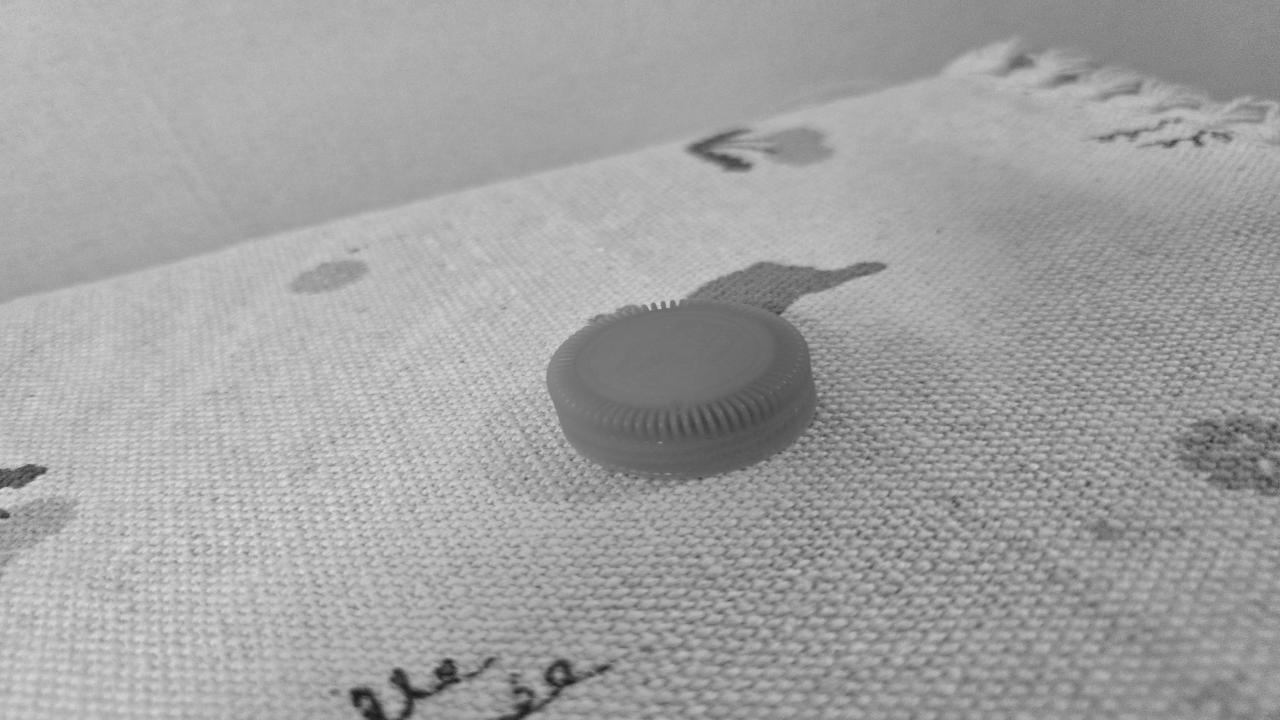bottle_cap: (552, 302, 814, 476)
